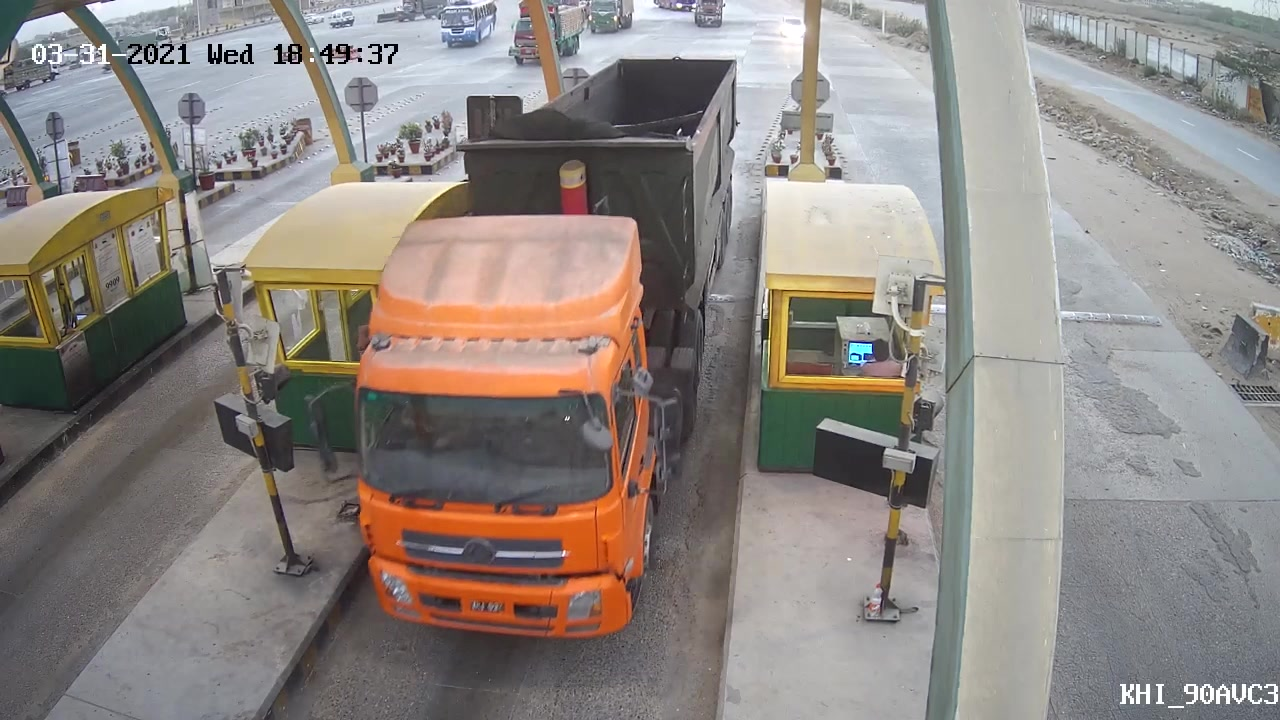F5: (302, 53, 743, 645)
